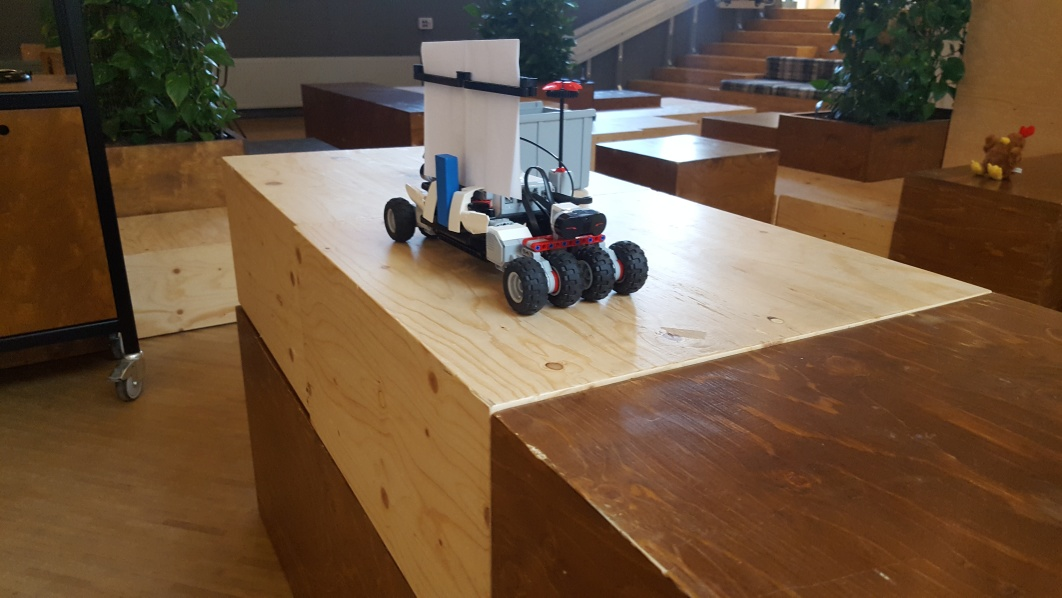car: (382, 39, 653, 314)
